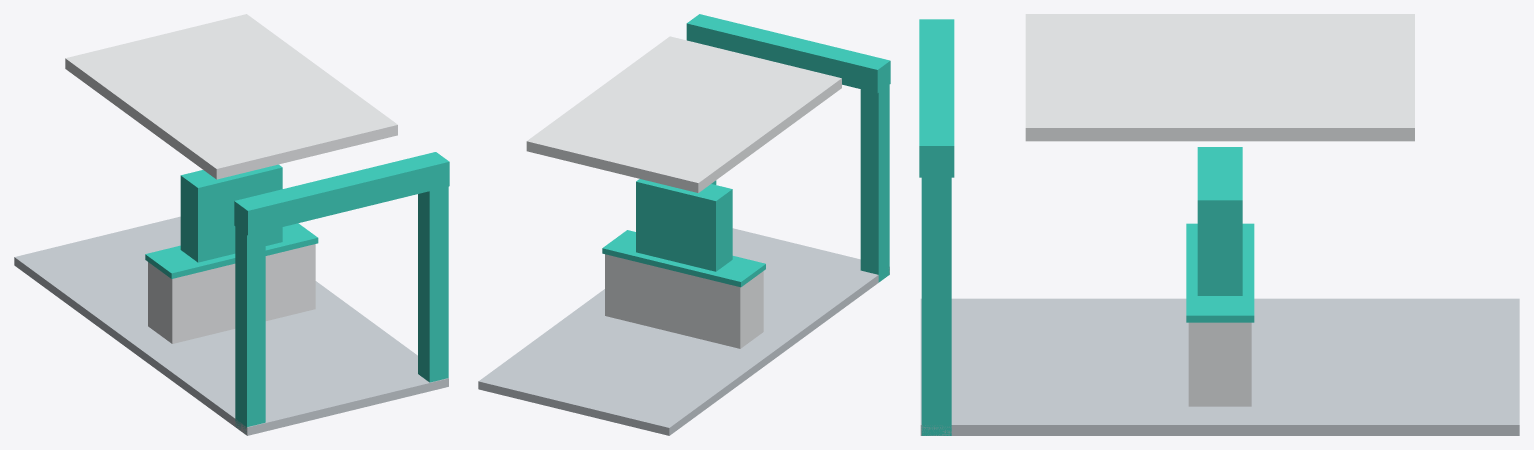
3 views of the same model, side by side, from view 1: azimuth 30°, elevation 25°; view 2: azimuth 150°, elevation 25°; view 3: azimuth 270°, elevation 25° (orthographic). The views are drawn at different scales.
Parts seen in each view (by area): view 1: Exhibition Booth Concept; view 2: Exhibition Booth Concept; view 3: Exhibition Booth Concept.
Boxes of the visible parts, <box> form: Exhibition Booth Concept: <box>14,14,449,435</box>; Exhibition Booth Concept: <box>478,14,890,435</box>; Exhibition Booth Concept: <box>919,14,1519,435</box>.
Size of the model in its own units: 3 by 3.34 by 6.02.
